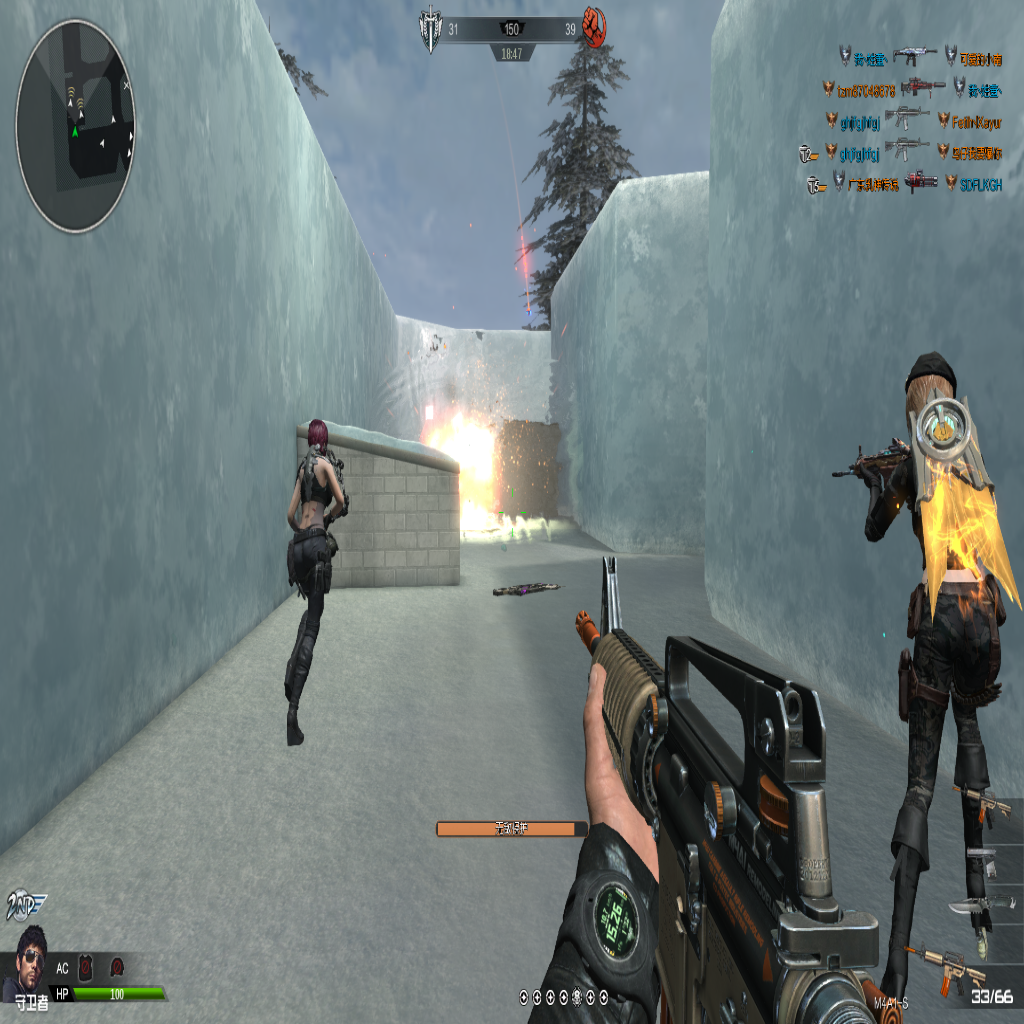ct: (873, 357, 1017, 964), (283, 424, 348, 744)
